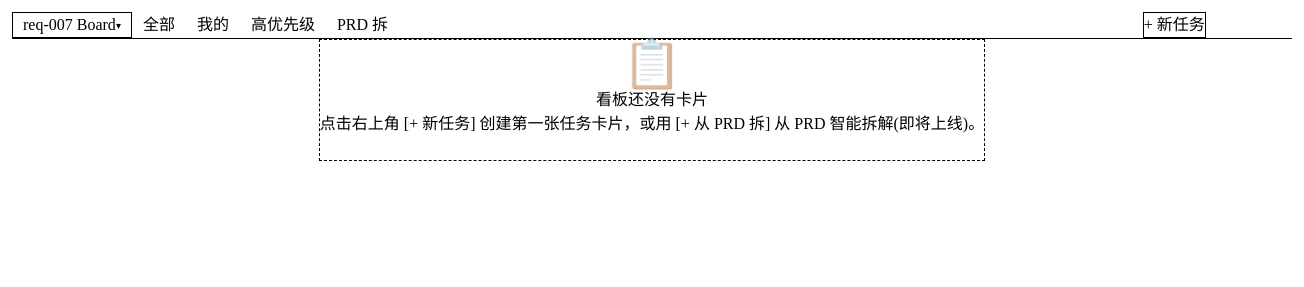
Test: BoardSection · 空态 / 错误态 › 无卡 + filter 非 all → 不渲染 EmptyState(走 5 列空列)
The width and height of the screenshot is (1304, 287).
Click the button with test id "board-filter-chip-mine" at (213, 25), box [186,12,240,38]
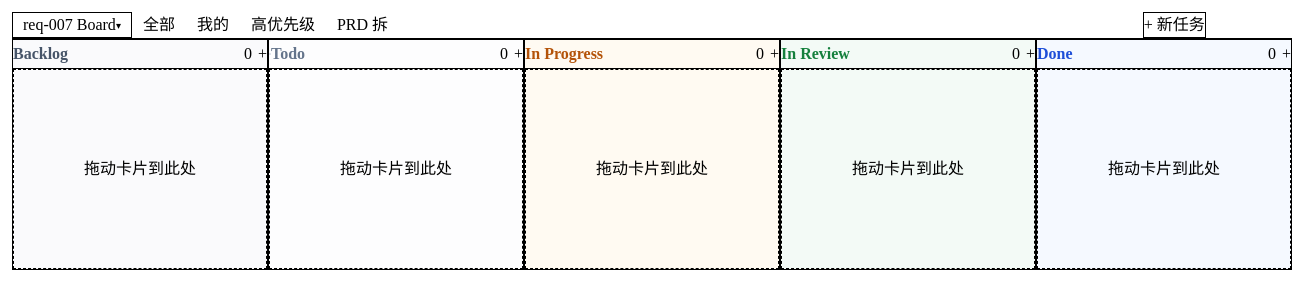
Expected: the element with test id "board-section-empty" is gone
Expected: the number of elements with test id "board-column" is 5, [12,39,268,270]; [268,39,524,270]; [524,39,780,270]; [780,39,1036,270]; [1036,39,1292,270]
